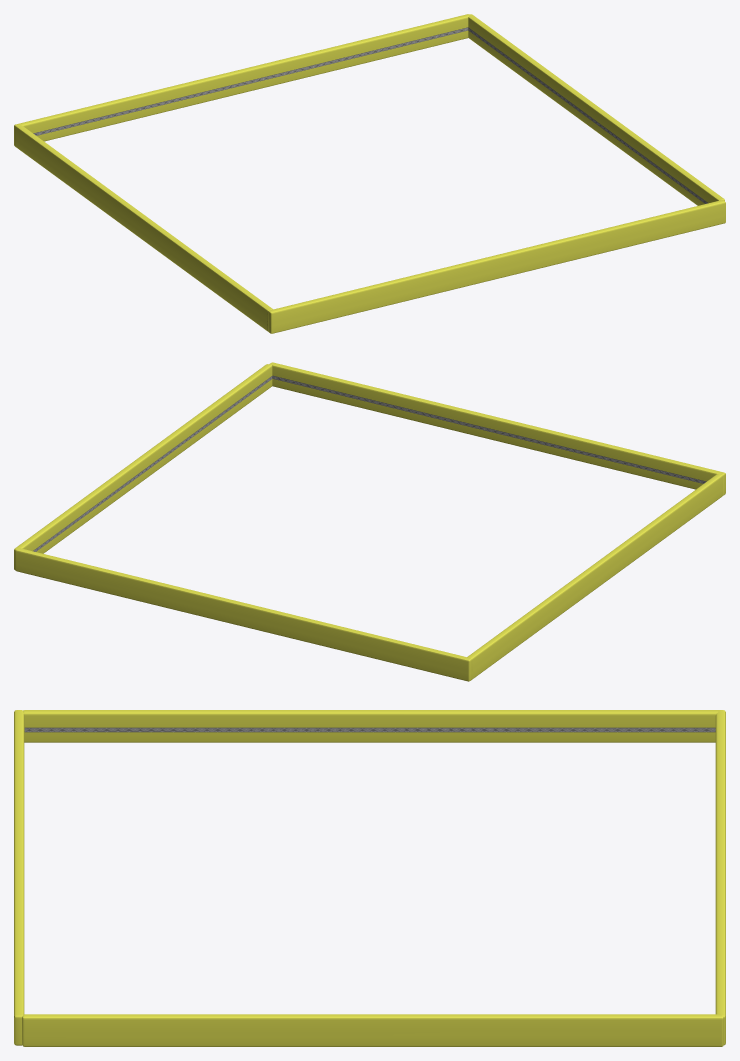
The model's file is duvar.fbx.
The picture shows the model from 3 angles, top to bottom: view 1: azimuth 30°, elevation 25°; view 2: azimuth 150°, elevation 25°; view 3: azimuth 270°, elevation 25°; orthographic projection. The views are drawn at different scales.
Parts seen in each view (by area): view 1: duvar; view 2: duvar; view 3: duvar.
Part boxes in pixels (x1,y1,x2,y2): duvar: [14, 14, 725, 333]; duvar: [14, 362, 725, 681]; duvar: [14, 710, 725, 1046].
Bounding box in the file's own units: 31366 × 1438 × 30588.
Materials: 2 (1 with a texture image).
